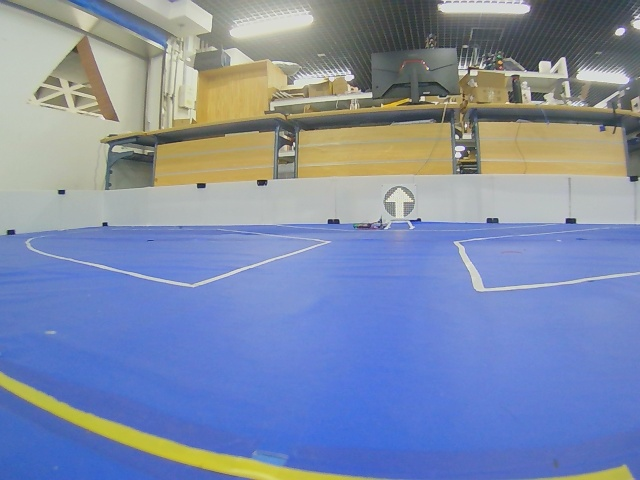straight_yellow: (384, 186, 415, 219)
